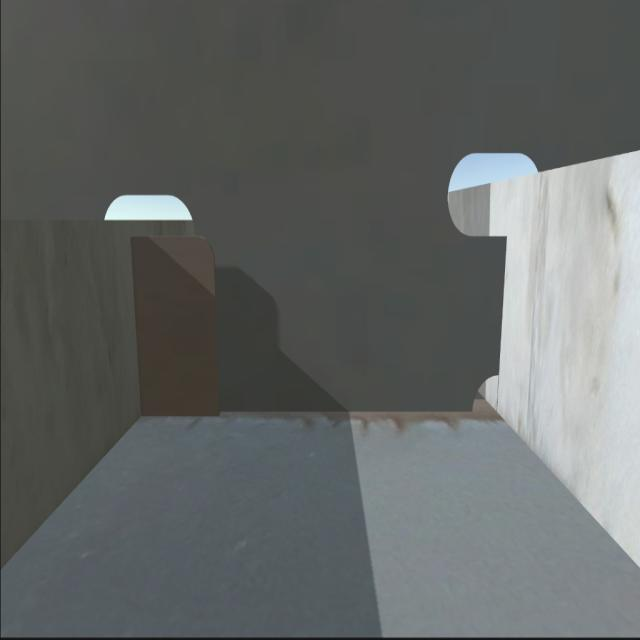fillet_hole: (469, 369, 505, 416)
fillet_yong_jeop_jang: (139, 406, 473, 419)
longi_yong_jeop_jang: (126, 239, 150, 415), (494, 232, 516, 382)
plate_CP05: (138, 243, 221, 418)
